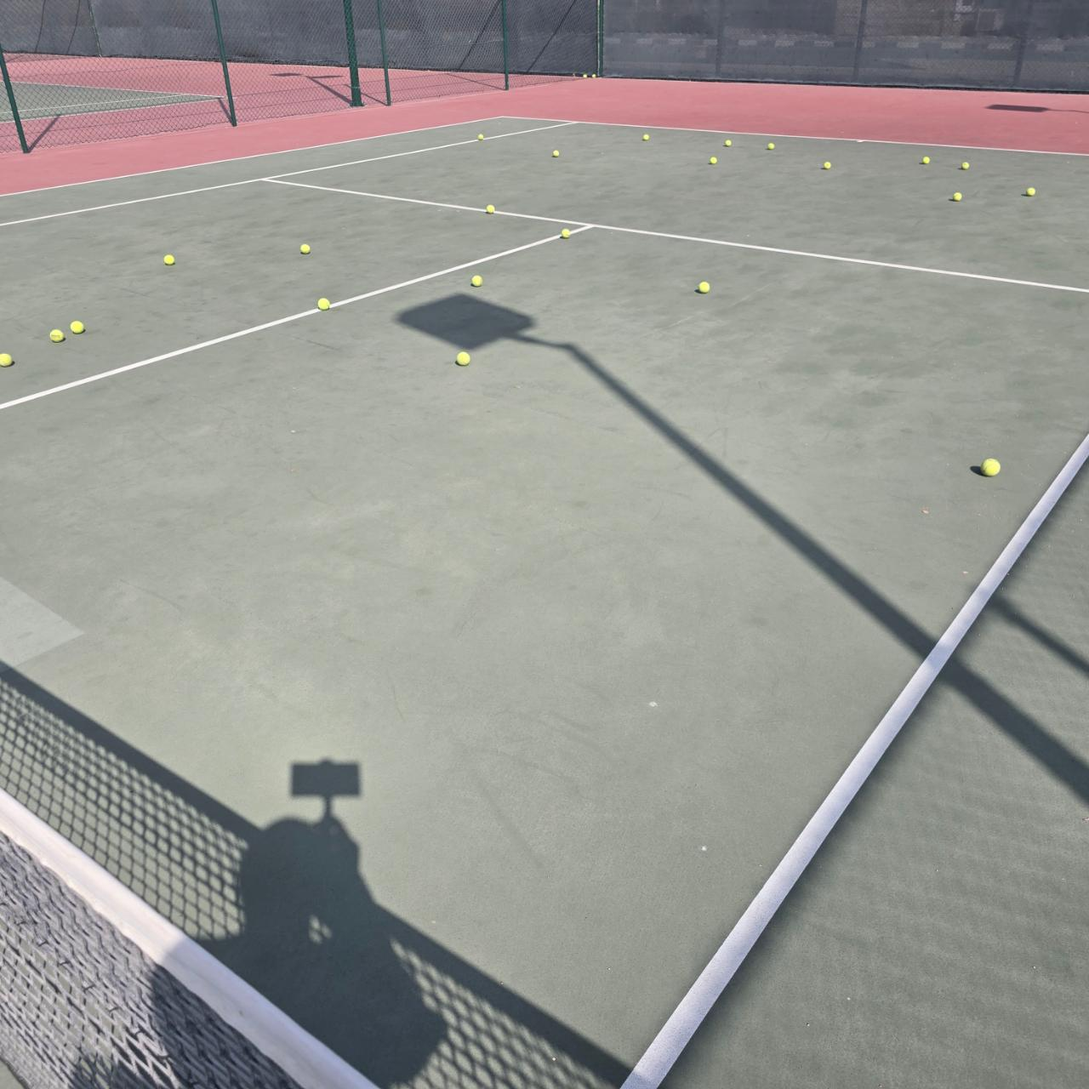tennis-ball: (980, 455, 1001, 476), (454, 349, 470, 366), (68, 318, 84, 334), (48, 327, 63, 342), (316, 295, 330, 311), (0, 351, 13, 368), (696, 279, 710, 293), (162, 252, 175, 265), (470, 273, 482, 287), (298, 242, 310, 254), (485, 204, 495, 215), (1026, 187, 1036, 197), (561, 228, 570, 239), (952, 192, 962, 201), (961, 161, 969, 170), (767, 142, 775, 150), (823, 161, 831, 169), (922, 156, 930, 164), (552, 150, 560, 157), (710, 157, 717, 165), (643, 134, 650, 141), (725, 140, 732, 147), (478, 133, 484, 141), (582, 74, 587, 79), (591, 74, 596, 78)
